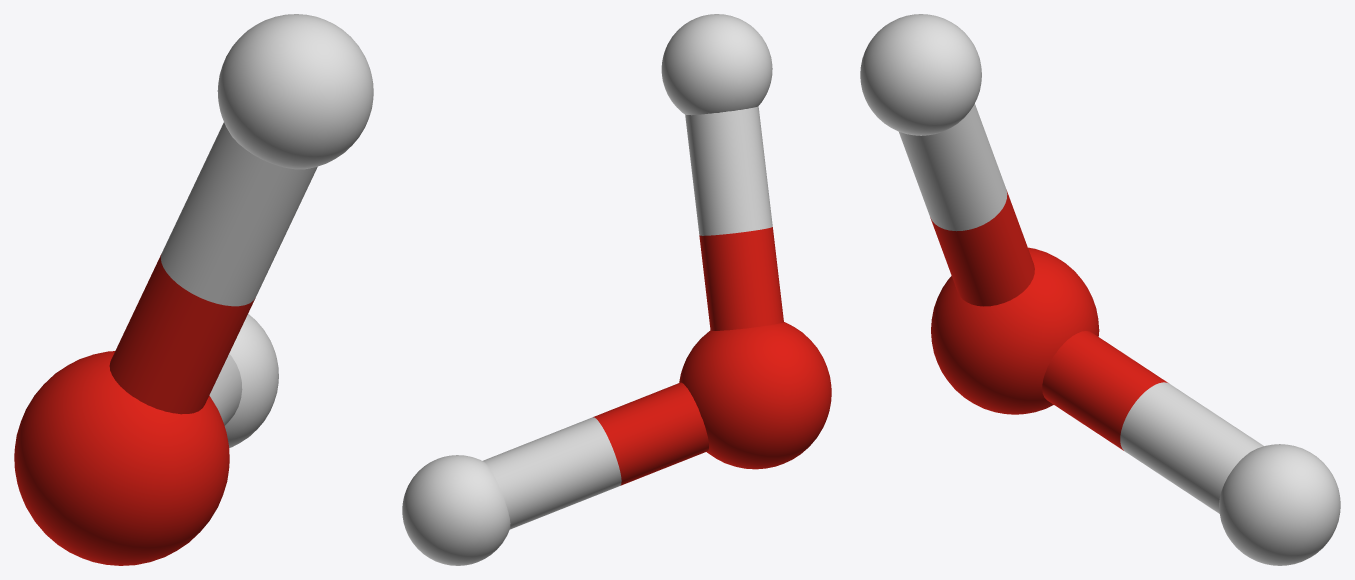
The model's file is Water.glb.
The picture shows the model from 3 angles, left to right: view 1: azimuth 30°, elevation 25°; view 2: azimuth 150°, elevation 25°; view 3: azimuth 270°, elevation 25°; orthographic projection. The views are drawn at different scales.
Bounding box in the file's own units: 0.9998 × 1.46 × 1.3.
